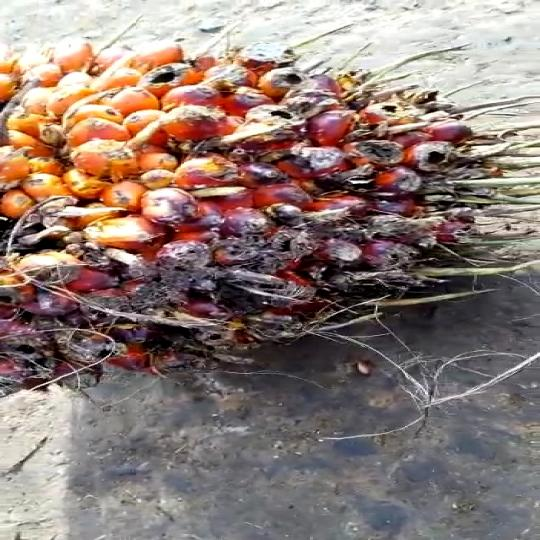masak: (0, 51, 502, 380)
